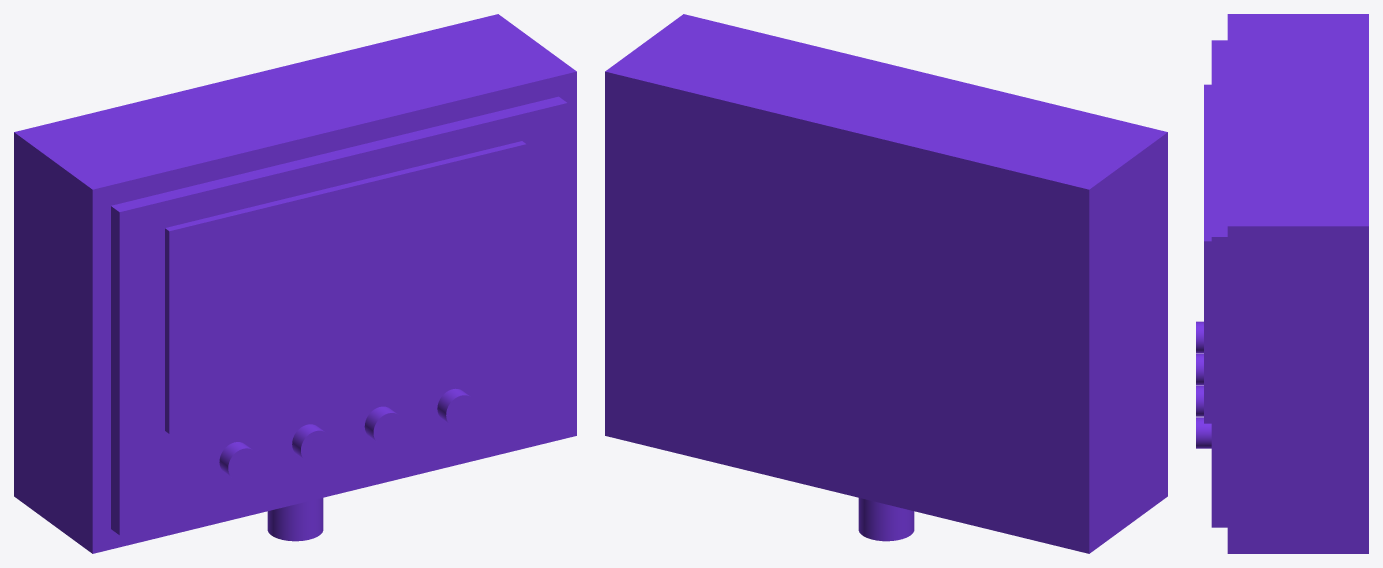
The model's file is DISP-RS485.glb.
The picture shows the model from 3 angles, left to right: view 1: azimuth 30°, elevation 25°; view 2: azimuth 150°, elevation 25°; view 3: azimuth 270°, elevation 25°; orthographic projection. The views are drawn at different scales.
Visible parts, largest first — view 1: DISP-RS485; view 2: DISP-RS485; view 3: DISP-RS485.
Boxes of the visible parts, left/top/right/bottom form: DISP-RS485: left=14, top=14, right=576, bottom=553; DISP-RS485: left=605, top=14, right=1167, bottom=553; DISP-RS485: left=1196, top=14, right=1368, bottom=553.
Bounding box in the file's own units: 0.16 × 0.135 × 0.055.
